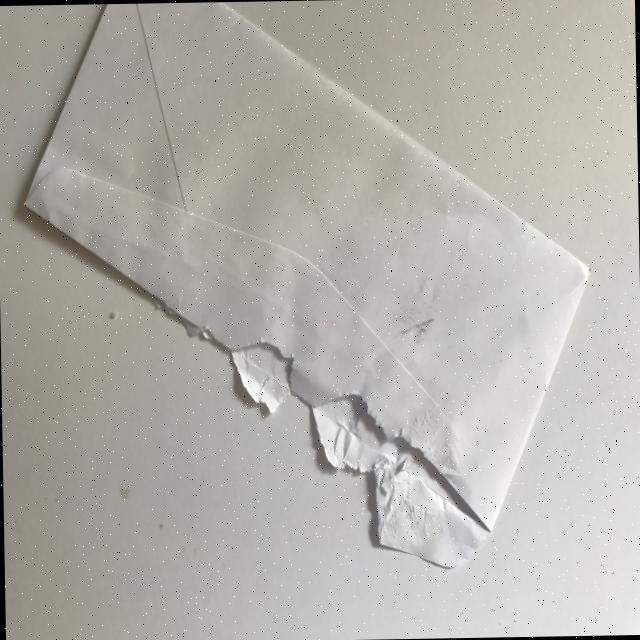paper: (19, 0, 595, 576)
